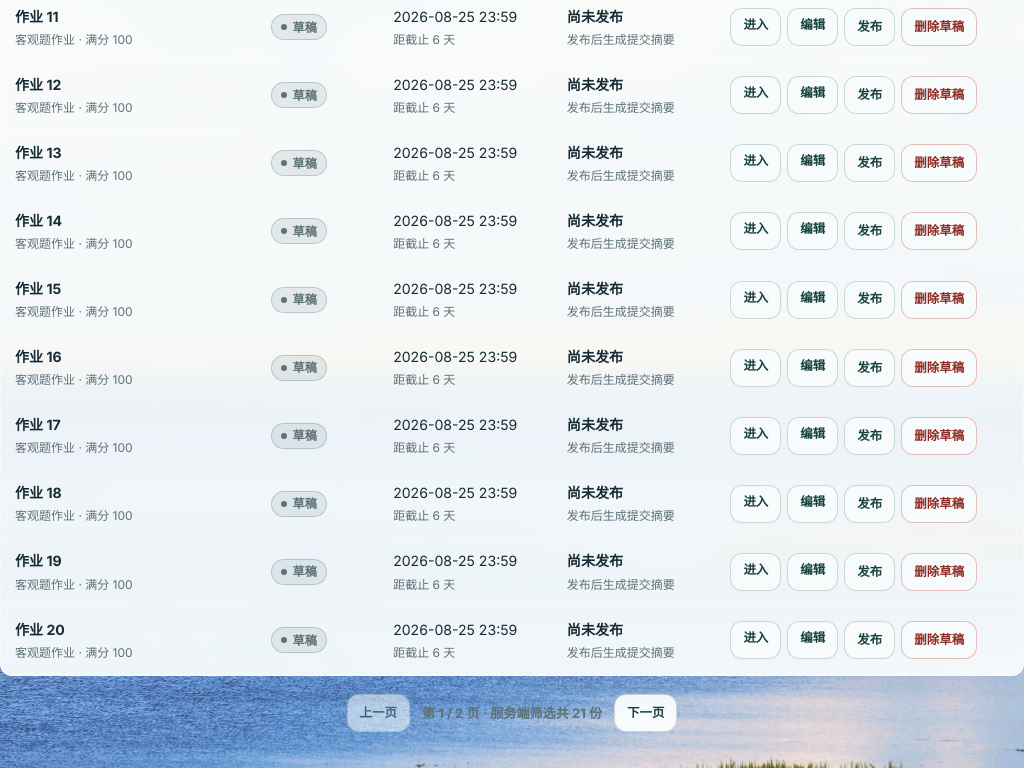
Scenario: HomeworkTeacherView › falls back to the last valid page after deleting the final row
(page scrolled)
Click the button "下一页" at (646, 713), box [614,694,677,732]
(page scrolled)
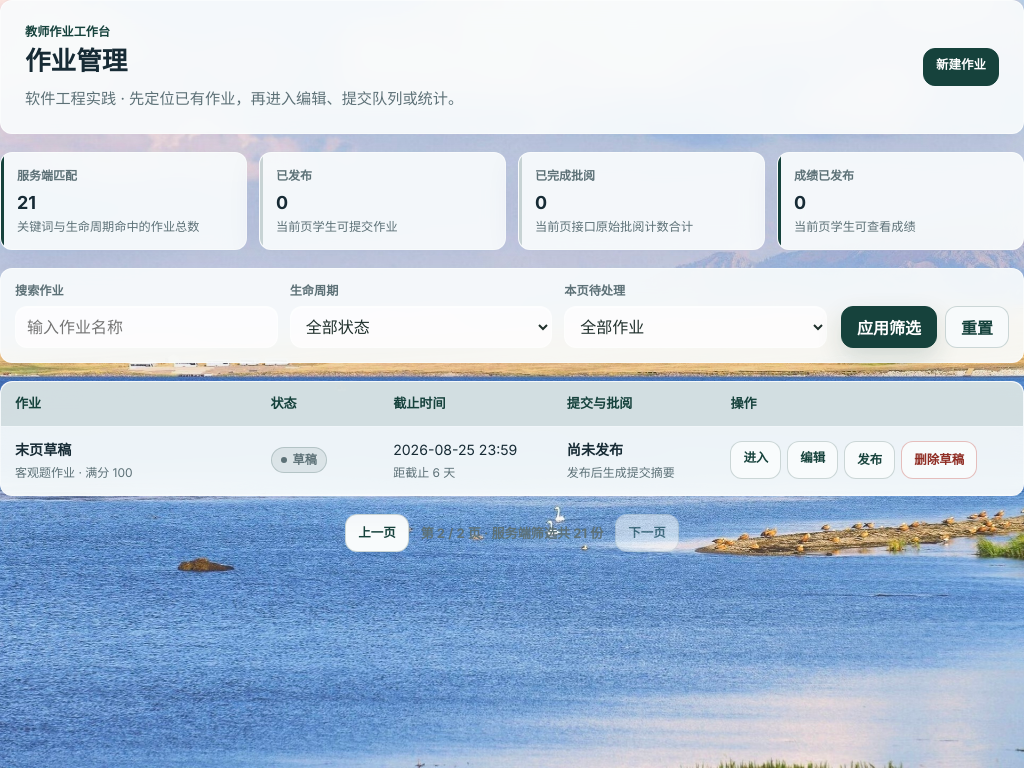
Click the button with test id "delete-homework-21" at (939, 460), box [901,441,977,479]
(page scrolled)
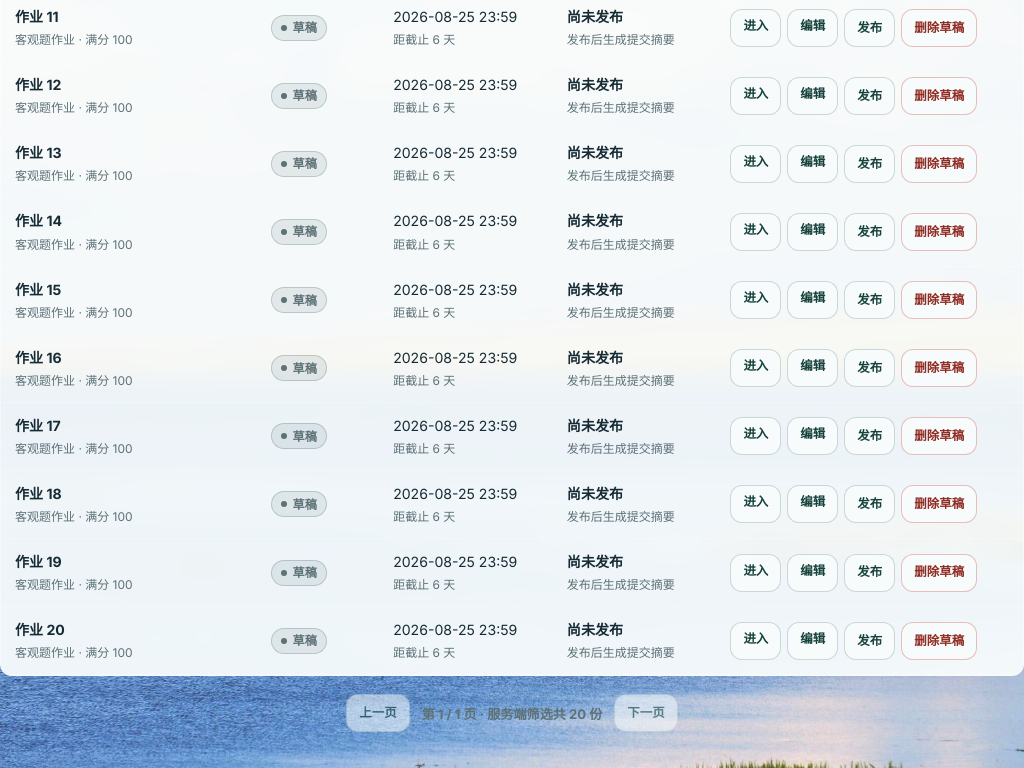
Now the navigation bar named "作业分页" shows "第 1 / 1 页", box [422,706,602,722]
